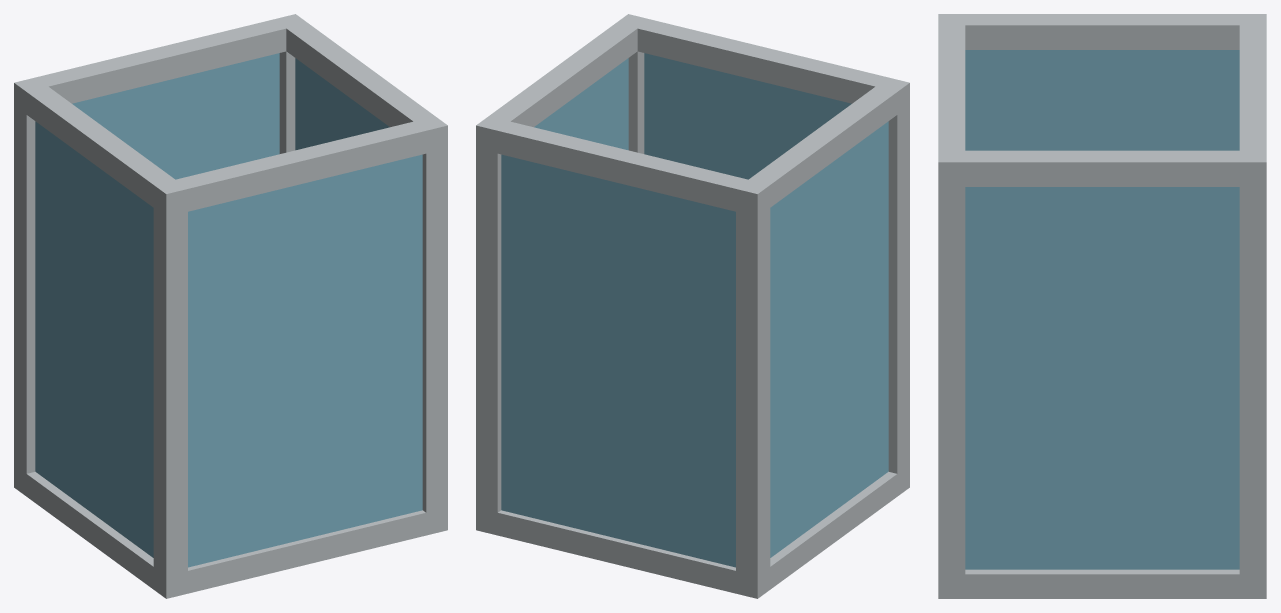
Rendered from 50_L76_WaferSpinDryer.glb.
3 renders of one model, left to right at view 1: azimuth 30°, elevation 25°; view 2: azimuth 150°, elevation 25°; view 3: azimuth 270°, elevation 25°, orthographic. The views are drawn at different scales.
Parts seen in each view (by area): view 1: WaferSpinDryer_Node_0013, WaferSpinDryer_Node_0014, WaferSpinDryer_Node_0012, WaferSpinDryer_Node_0001, WaferSpinDryer_Node_0003, WaferSpinDryer_Node_0009, WaferSpinDryer_Node_0008, WaferSpinDryer_Node_0000, WaferSpinDryer_Node_0005, WaferSpinDryer_Node_0010, WaferSpinDryer_Node_0011, WaferSpinDryer_Node_0015 (+2 smaller); view 2: WaferSpinDryer_Node_0012, WaferSpinDryer_Node_0014, WaferSpinDryer_Node_0013, WaferSpinDryer_Node_0000, WaferSpinDryer_Node_0002, WaferSpinDryer_Node_0008, WaferSpinDryer_Node_0009, WaferSpinDryer_Node_0001, WaferSpinDryer_Node_0004, WaferSpinDryer_Node_0010, WaferSpinDryer_Node_0011, WaferSpinDryer_Node_0015 (+2 smaller); view 3: WaferSpinDryer_Node_0015, WaferSpinDryer_Node_0014, WaferSpinDryer_Node_0003, WaferSpinDryer_Node_0002, WaferSpinDryer_Node_0011, WaferSpinDryer_Node_0010, WaferSpinDryer_Node_0007, WaferSpinDryer_Node_0009, WaferSpinDryer_Node_0008.
Part boxes in pixels (left/top/right/bottom): WaferSpinDryer_Node_0013: left=188, top=154, right=422, bottom=567; WaferSpinDryer_Node_0014: left=35, top=121, right=153, bottom=557; WaferSpinDryer_Node_0012: left=72, top=53, right=279, bottom=179; WaferSpinDryer_Node_0001: left=153, top=179, right=187, bottom=598; WaferSpinDryer_Node_0003: left=414, top=116, right=447, bottom=535; WaferSpinDryer_Node_0009: left=154, top=117, right=447, bottom=215; WaferSpinDryer_Node_0008: left=14, top=14, right=306, bottom=114; WaferSpinDryer_Node_0000: left=14, top=79, right=47, bottom=496; WaferSpinDryer_Node_0005: left=153, top=510, right=446, bottom=598; WaferSpinDryer_Node_0010: left=14, top=82, right=187, bottom=215; WaferSpinDryer_Node_0011: left=275, top=15, right=447, bottom=152; WaferSpinDryer_Node_0015: left=295, top=58, right=389, bottom=150; WaferSpinDryer_Node_0012: left=501, top=154, right=735, bottom=567; WaferSpinDryer_Node_0014: left=770, top=121, right=888, bottom=557; WaferSpinDryer_Node_0013: left=644, top=53, right=851, bottom=179; WaferSpinDryer_Node_0000: left=736, top=179, right=770, bottom=598; WaferSpinDryer_Node_0002: left=476, top=116, right=509, bottom=535; WaferSpinDryer_Node_0008: left=476, top=117, right=769, bottom=216; WaferSpinDryer_Node_0009: left=617, top=14, right=909, bottom=106; WaferSpinDryer_Node_0001: left=876, top=79, right=909, bottom=495; WaferSpinDryer_Node_0004: left=477, top=510, right=770, bottom=598; WaferSpinDryer_Node_0010: left=736, top=81, right=909, bottom=216; WaferSpinDryer_Node_0011: left=476, top=14, right=648, bottom=147; WaferSpinDryer_Node_0015: left=534, top=58, right=628, bottom=150; WaferSpinDryer_Node_0015: left=965, top=187, right=1239, bottom=569; WaferSpinDryer_Node_0014: left=965, top=50, right=1239, bottom=150; WaferSpinDryer_Node_0003: left=938, top=150, right=965, bottom=598; WaferSpinDryer_Node_0002: left=1239, top=150, right=1266, bottom=598; WaferSpinDryer_Node_0011: left=938, top=150, right=1266, bottom=186; WaferSpinDryer_Node_0010: left=938, top=14, right=1265, bottom=49; WaferSpinDryer_Node_0007: left=939, top=569, right=1264, bottom=598; WaferSpinDryer_Node_0009: left=938, top=14, right=965, bottom=186; WaferSpinDryer_Node_0008: left=1239, top=14, right=1266, bottom=186.
Bounding box in the file's own units: 1.42 × 1.95 × 1.33.
